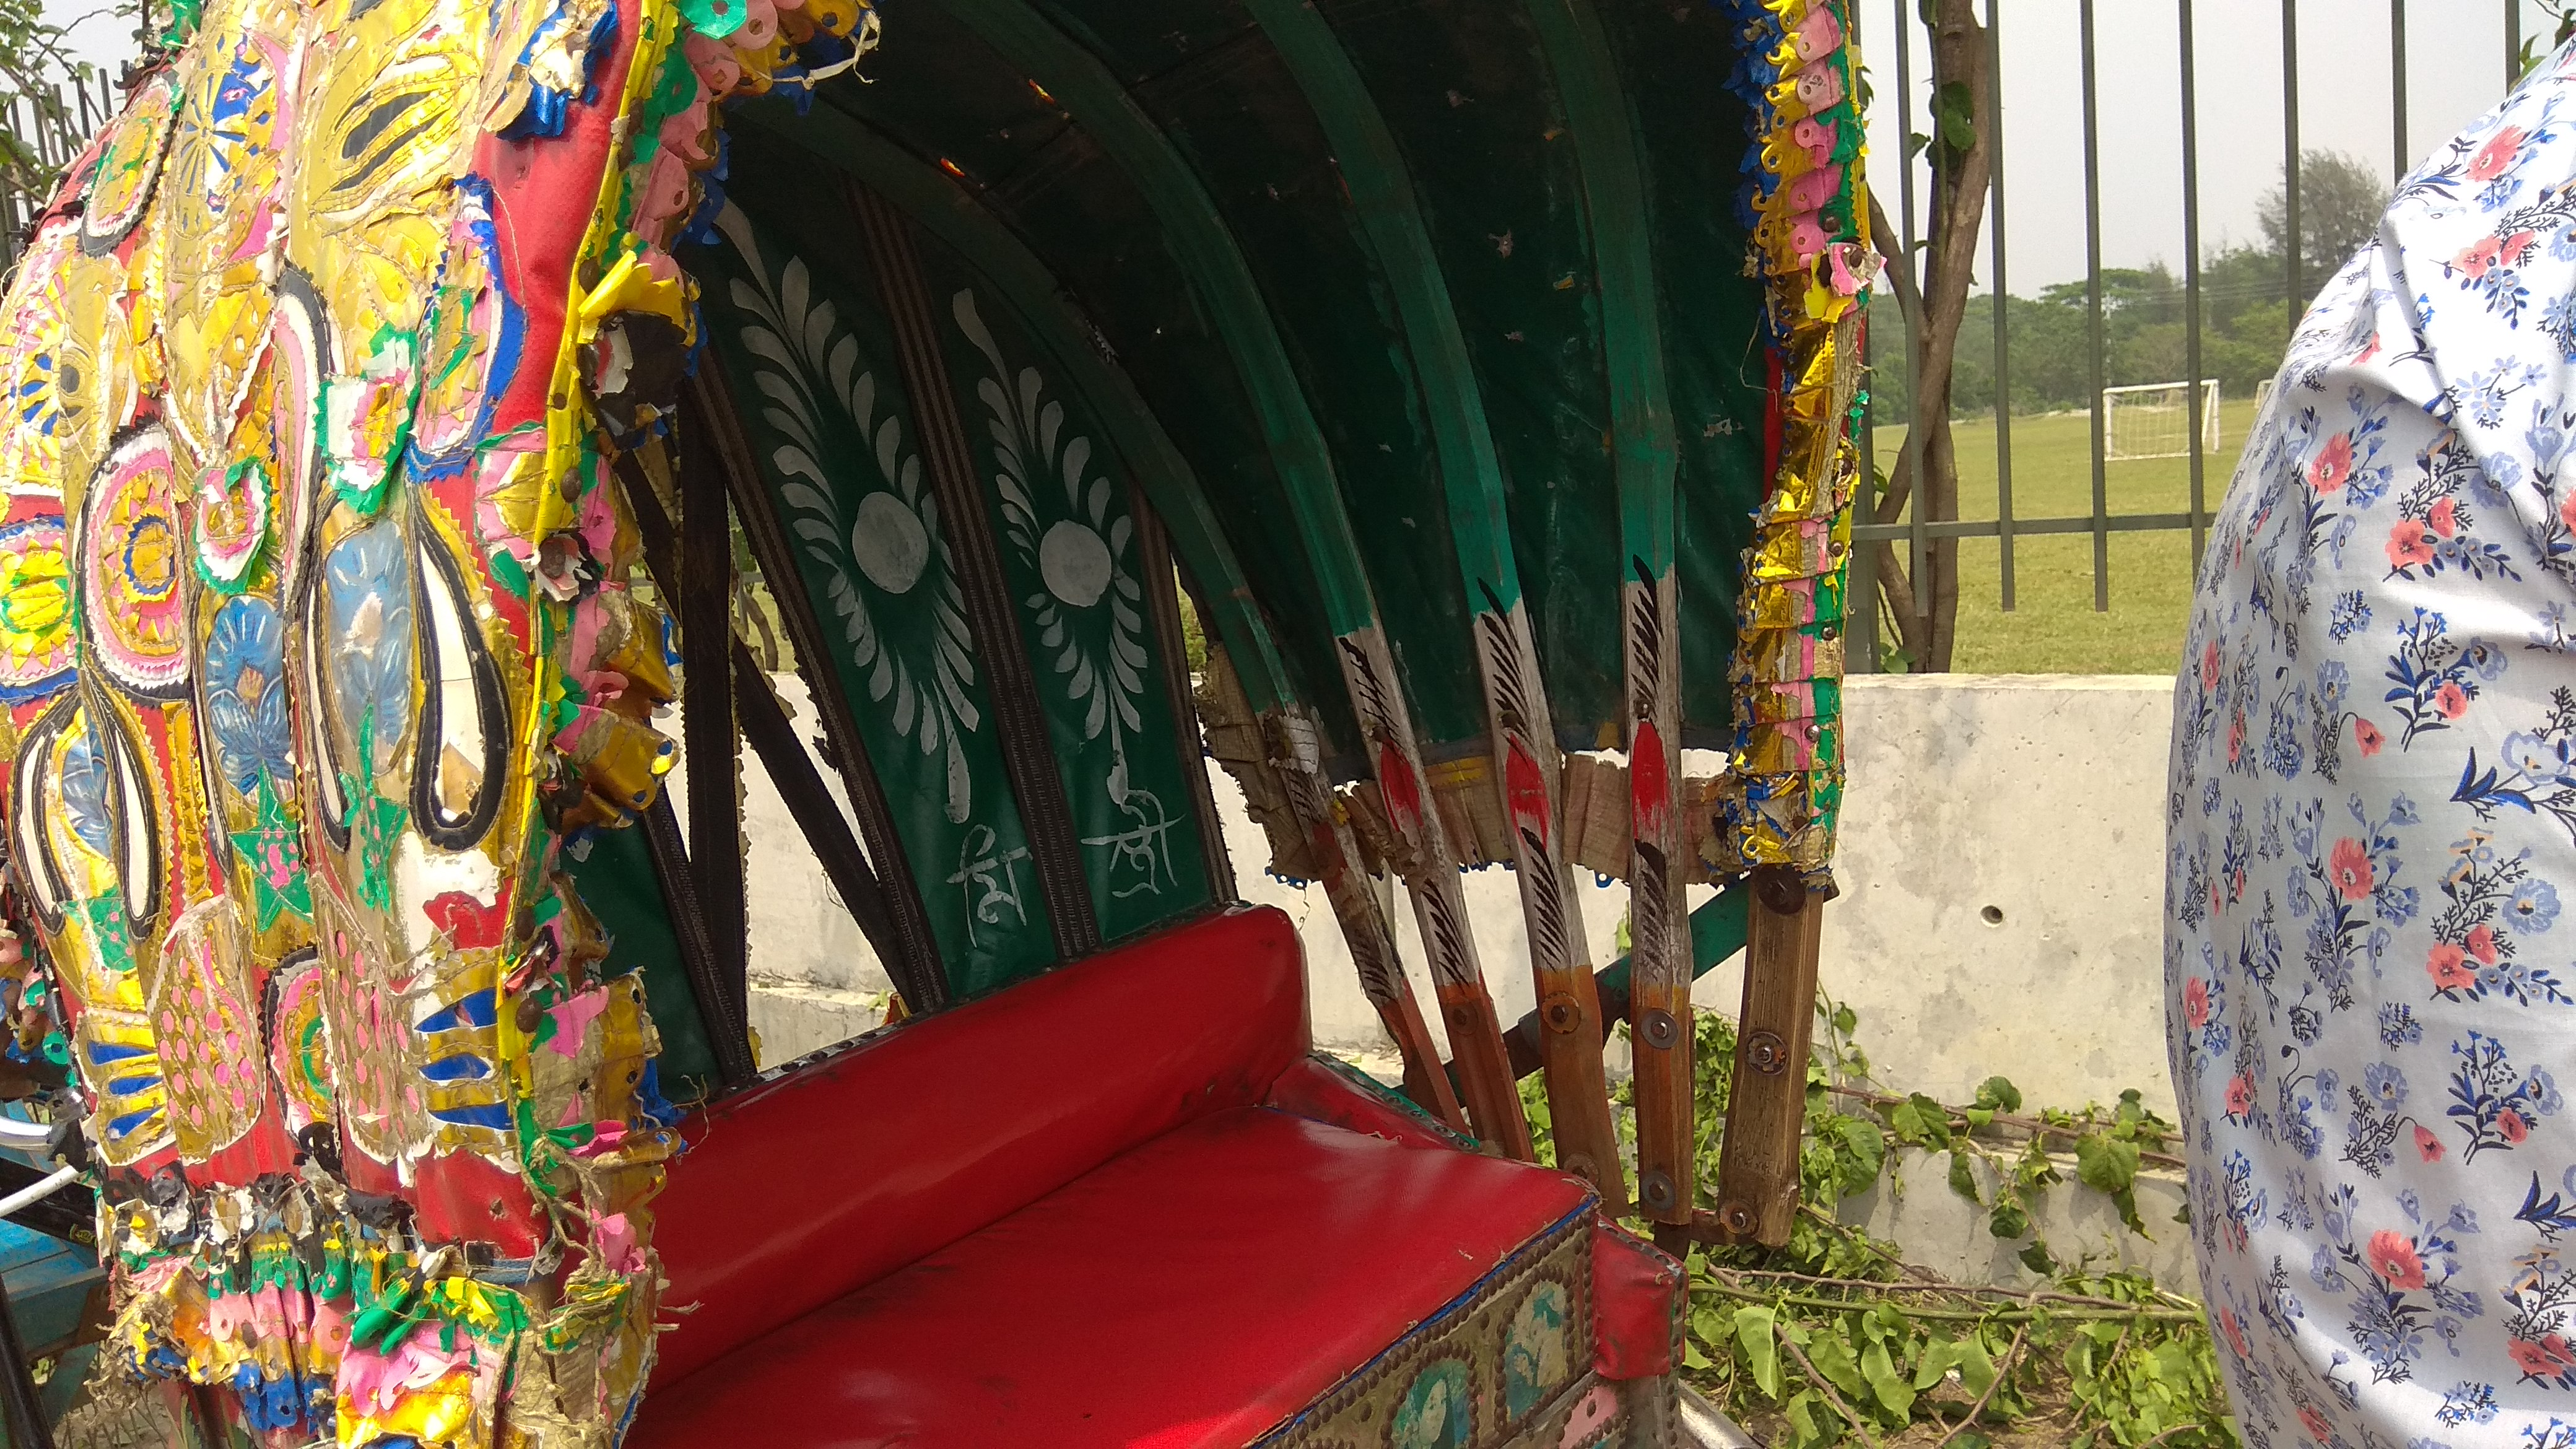Rickshaw: (5, 4, 1911, 1438)
